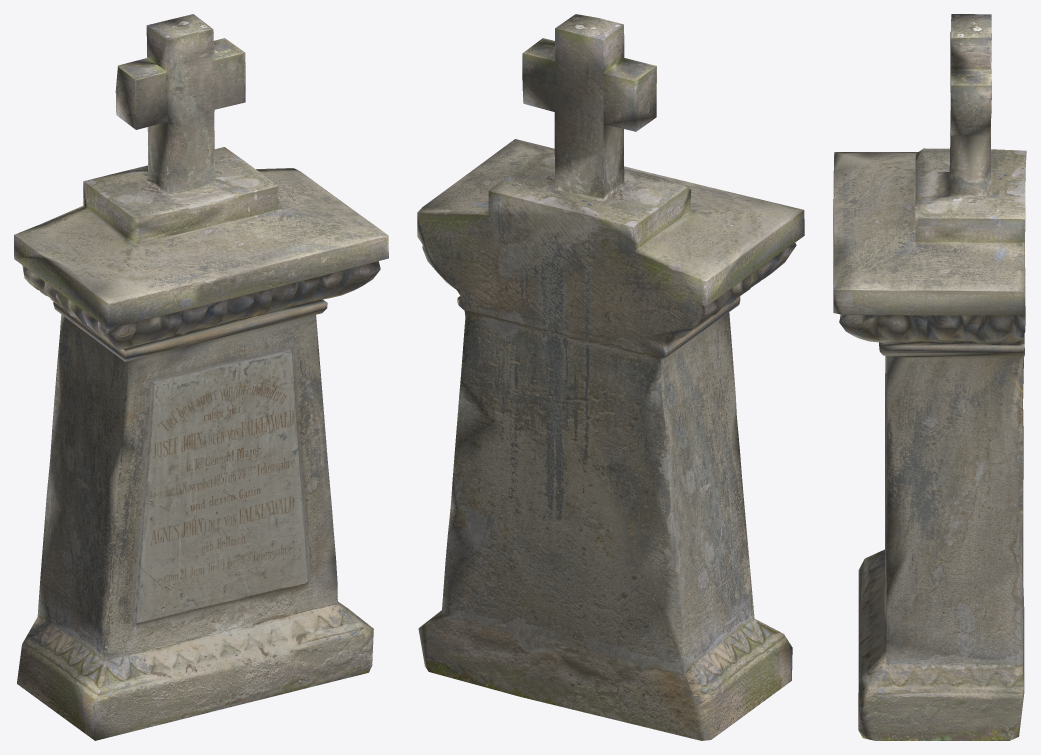
The model's file is tumba2.obj.
3 renders of one model, left to right at view 1: azimuth 30°, elevation 25°; view 2: azimuth 150°, elevation 25°; view 3: azimuth 270°, elevation 25°, orthographic. The views are drawn at different scales.
Visible parts, largest first — view 1: VR3Dcz_Tombstone_013_baking_painter_1001_001; view 2: VR3Dcz_Tombstone_013_baking_painter_1001_001; view 3: VR3Dcz_Tombstone_013_baking_painter_1001_001.
Part boxes in pixels (x1,y1,x2,y2): VR3Dcz_Tombstone_013_baking_painter_1001_001: (14,14,388,740); VR3Dcz_Tombstone_013_baking_painter_1001_001: (417,14,804,740); VR3Dcz_Tombstone_013_baking_painter_1001_001: (833,14,1026,740).
Bounding box in the file's own units: 47.56 × 103 × 27.94.
Materials: 1 (1 with a texture image).
